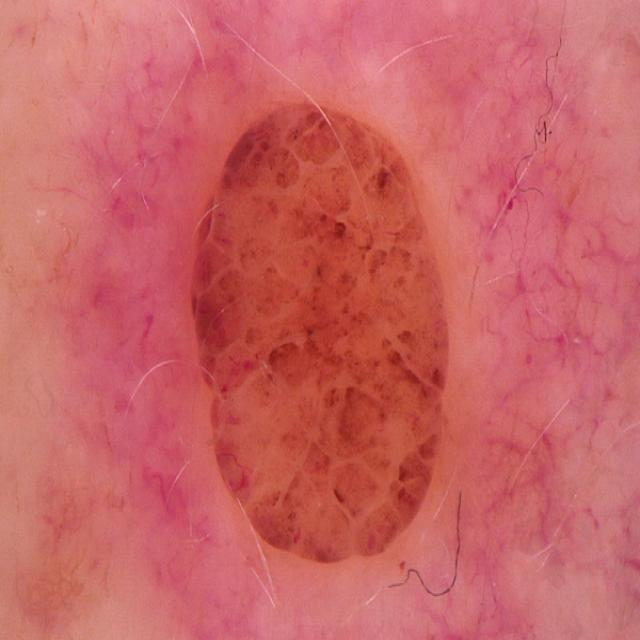NV: (188, 102, 451, 566)
